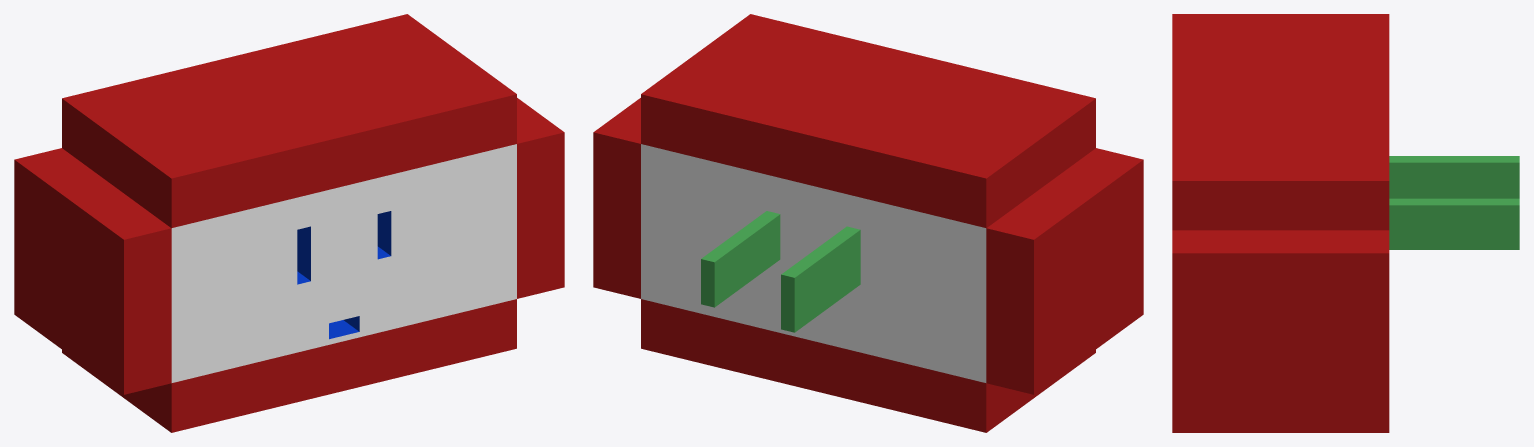
File: Case_Study_SmartSwitch_3.glb
The picture shows the model from 3 angles, left to right: view 1: azimuth 30°, elevation 25°; view 2: azimuth 150°, elevation 25°; view 3: azimuth 270°, elevation 25°; orthographic projection.
Visible parts, largest first — view 1: Part 4, Part, Part 2; view 2: Part 4, Part, Part 3; view 3: Part 4, Part 3.
Boxes of the visible parts, x1,y1,x2,y2 form: Part 4: (14, 14, 564, 432); Part: (171, 144, 516, 382); Part 2: (297, 211, 391, 339); Part 4: (593, 14, 1143, 432); Part: (641, 144, 986, 382); Part 3: (701, 211, 860, 332); Part 4: (1172, 14, 1389, 432); Part 3: (1389, 156, 1519, 249).
Bounding box in the file's own units: 0.0737 × 0.0406 × 0.0508.
